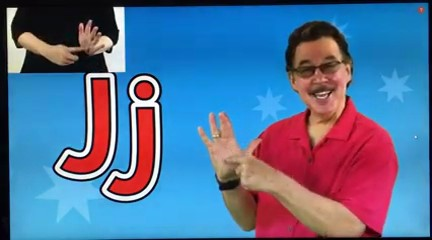J: (192, 104, 282, 200)
